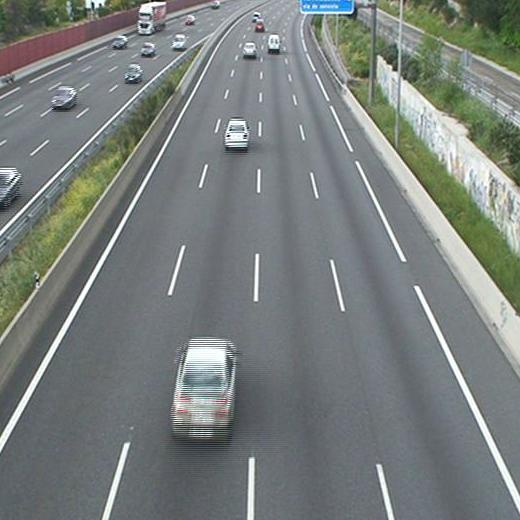car: (171, 336, 237, 446), (223, 116, 250, 152), (242, 42, 257, 57)
van: (268, 34, 281, 53)
